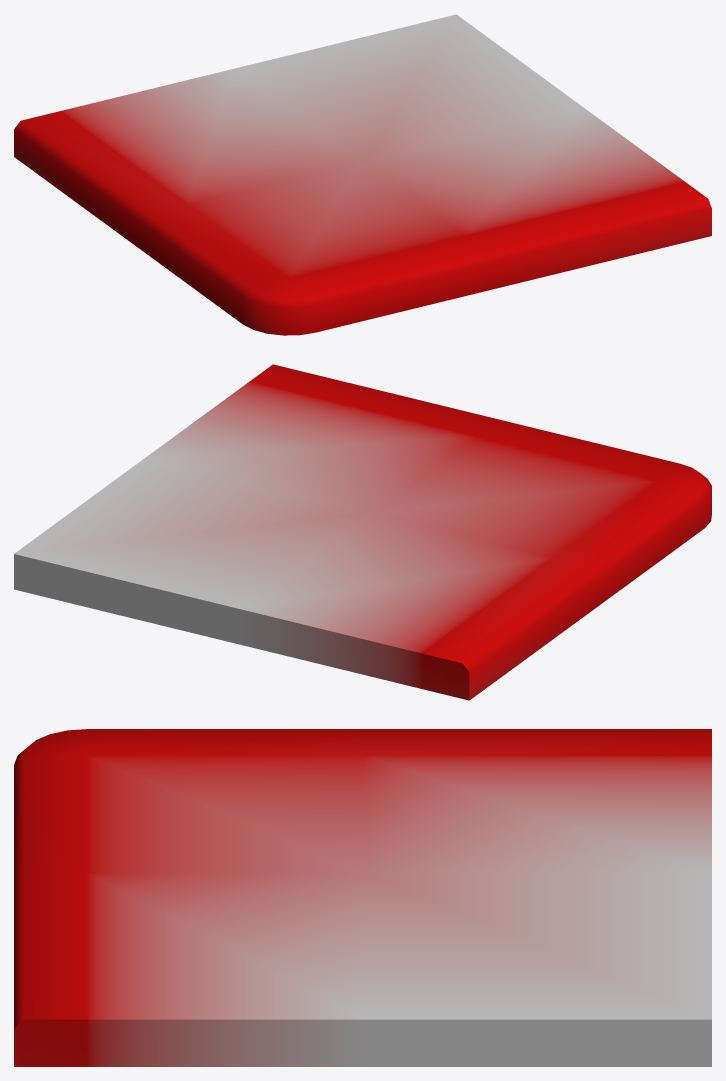
Rendered from Sidewalk_Corner_Flat_2m.gltf.
The picture shows the model from 3 angles, top to bottom: view 1: azimuth 30°, elevation 25°; view 2: azimuth 150°, elevation 25°; view 3: azimuth 270°, elevation 25°; orthographic projection. The views are drawn at different scales.
Parts seen in each view (by area): view 1: Sidewalk_Corner_Flat_2m; view 2: Sidewalk_Corner_Flat_2m; view 3: Sidewalk_Corner_Flat_2m.
Boxes of the visible parts, x1,y1,x2,y2 form: Sidewalk_Corner_Flat_2m: (14,14,711,335); Sidewalk_Corner_Flat_2m: (14,364,711,700); Sidewalk_Corner_Flat_2m: (14,729,711,1066).
Size of what is drawn, in the model's own units: 2.01 by 0.15 by 2.01.
